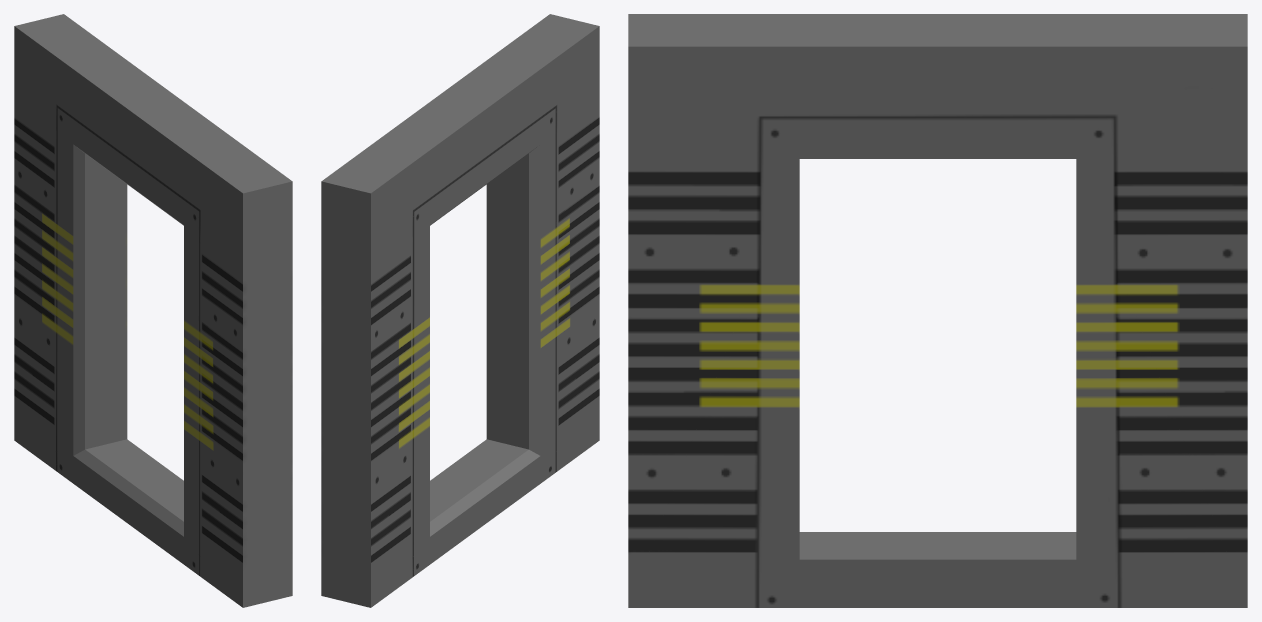
Rendered from SM_B2_Wall1_SM_B2_Wall.fbx.
3 views of the same model, side by side, from view 1: azimuth 30°, elevation 25°; view 2: azimuth 150°, elevation 25°; view 3: azimuth 270°, elevation 25° (orthographic). The views are drawn at different scales.
Visible parts, largest first — view 1: SM_B2_Wall1_SM_B2_Wall; view 2: SM_B2_Wall1_SM_B2_Wall; view 3: SM_B2_Wall1_SM_B2_Wall.
Part boxes in pixels (x1,y1,x2,y2): SM_B2_Wall1_SM_B2_Wall: (14,14,292,607); SM_B2_Wall1_SM_B2_Wall: (321,14,599,607); SM_B2_Wall1_SM_B2_Wall: (628,14,1247,607).
Bounding box in the file's own units: 50.77 × 406 × 406.
Materials: 1 (1 with a texture image).
